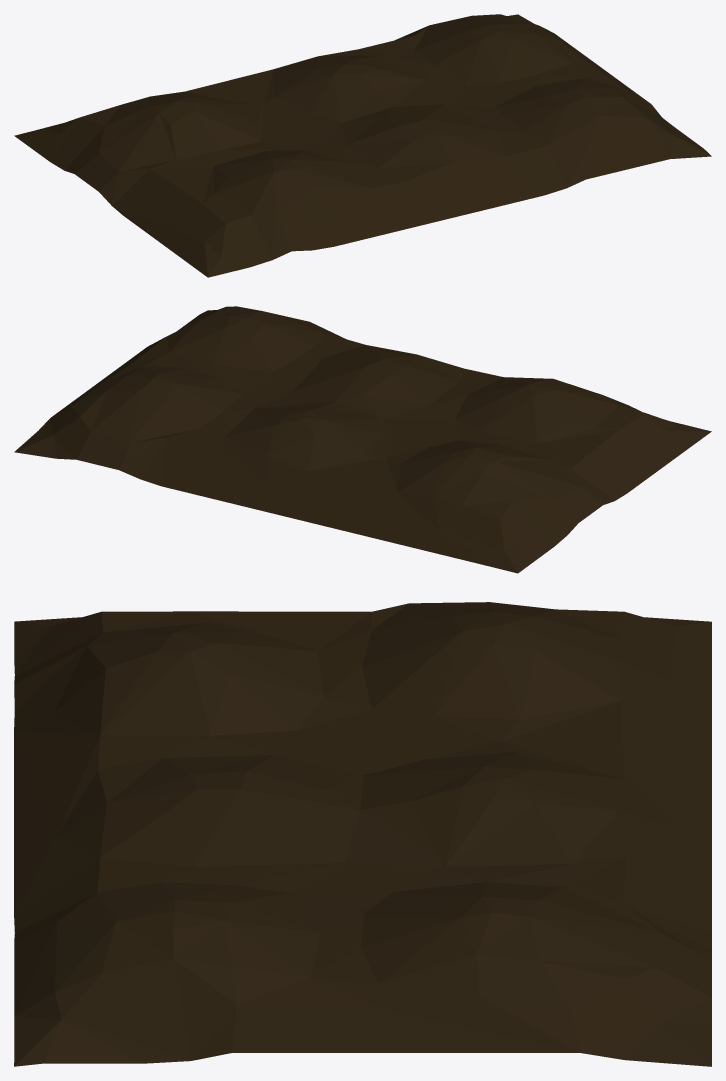
File: Field.fbx
3 views of the same model, one above another, from view 1: azimuth 30°, elevation 25°; view 2: azimuth 150°, elevation 25°; view 3: azimuth 270°, elevation 25° (orthographic). The views are drawn at different scales.
Parts seen in each view (by area): view 1: Plane; view 2: Plane; view 3: Plane.
Boxes of the visible parts, bbox=[...] form: Plane: bbox=[14, 14, 711, 277]; Plane: bbox=[14, 306, 711, 573]; Plane: bbox=[14, 602, 711, 1066].
Size of the model in its own units: 600 by 59.14 by 400.
